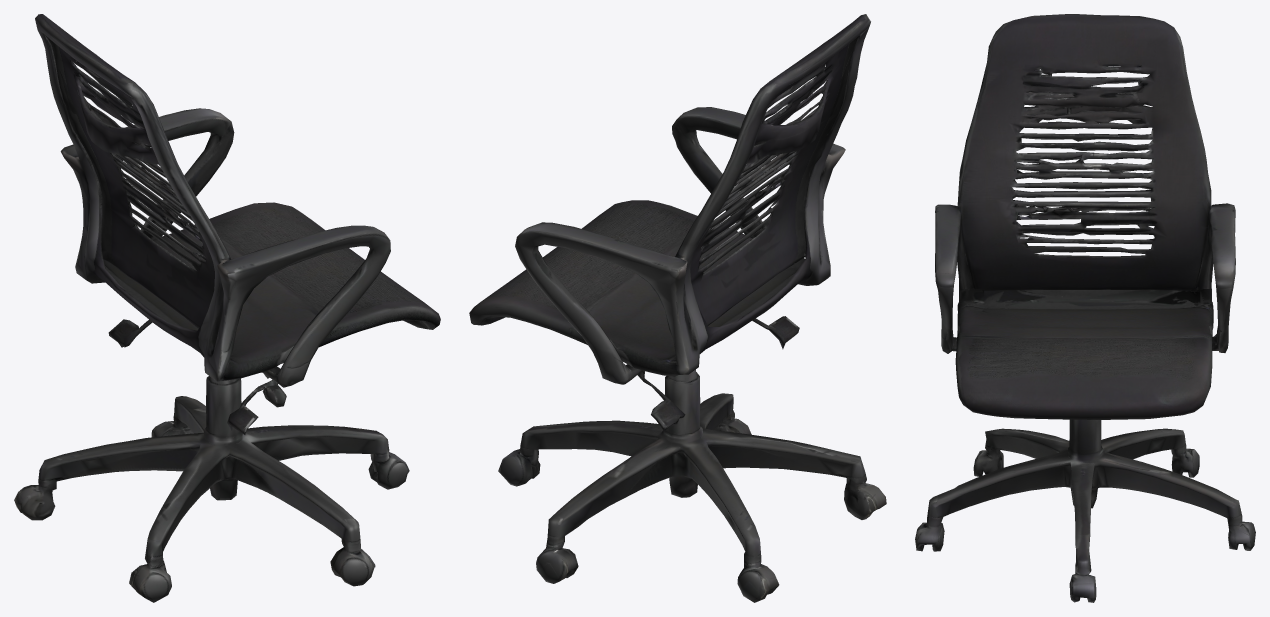
The model's file is Office_Chair_Deluxe_0421141203_texture.glb.
3 renders of one model, left to right at view 1: azimuth 30°, elevation 25°; view 2: azimuth 150°, elevation 25°; view 3: azimuth 270°, elevation 25°, orthographic. The views are drawn at different scales.
Bounding box in the file's own units: 1.34 × 2 × 1.36.
Materials: 1 (1 with a texture image).
